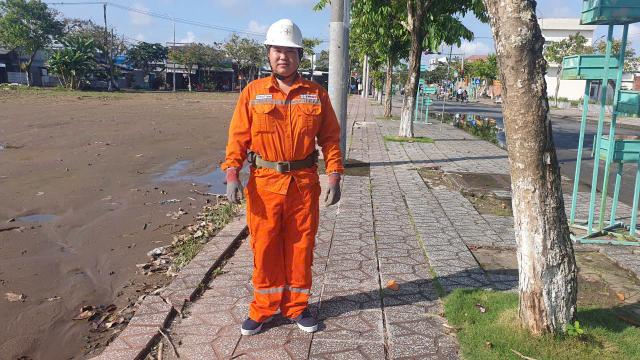gloves: (211, 158, 249, 209), (322, 168, 346, 212)
harness: (243, 148, 321, 178)
helmet: (264, 18, 308, 52)
shoes: (288, 298, 324, 337), (234, 307, 272, 336)
